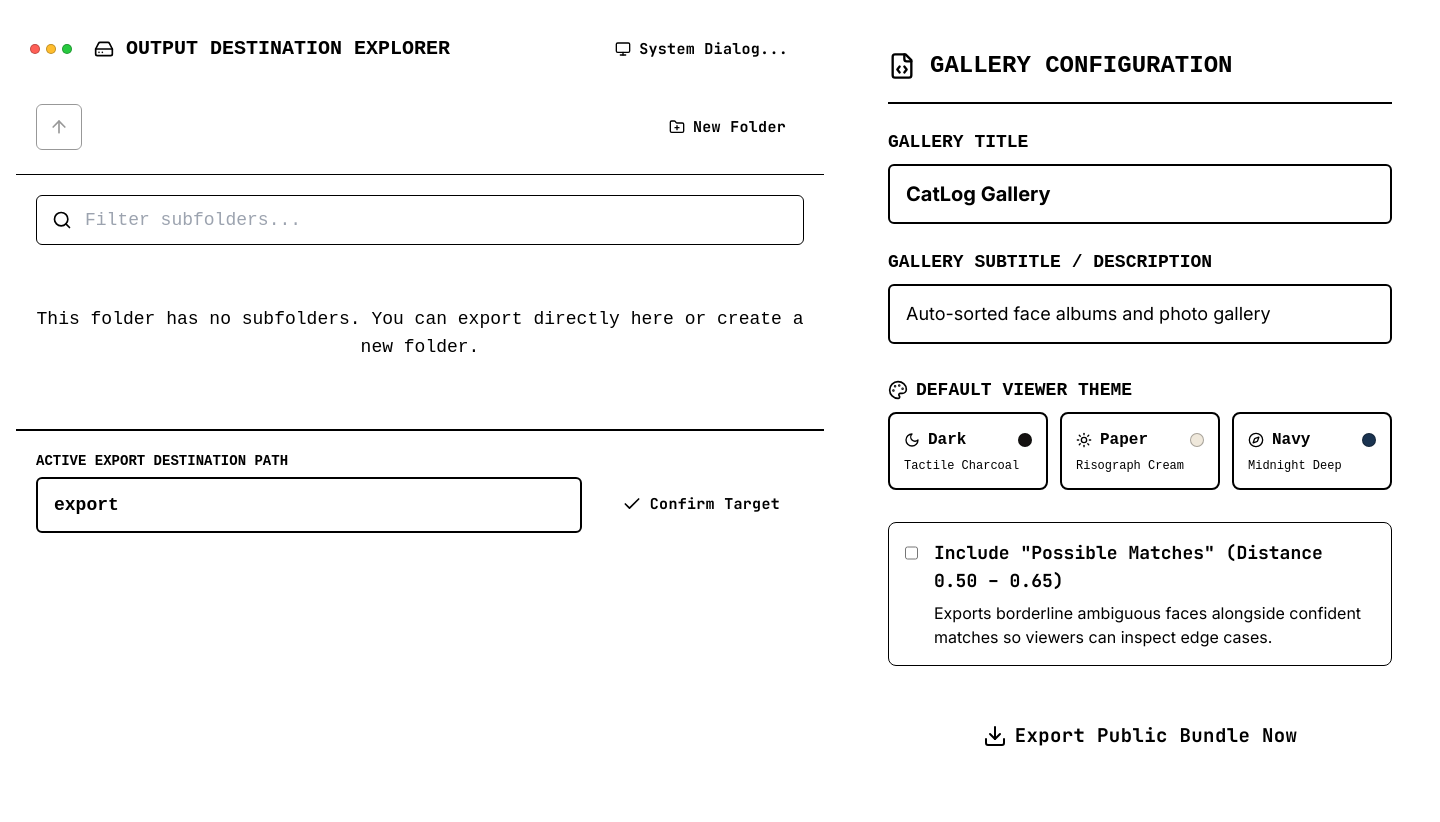
Mascots & Tutorial in Settings Integration › ExportScreen success summary renders leaving mascot with packed bundle (Pose 7)
The image size is (1440, 822).
(page scrolled)
// Trigger export
Click the button with test id "export-bundle-btn".
click(1140, 736)  # box [888,706,1392,766]
(page scrolled)
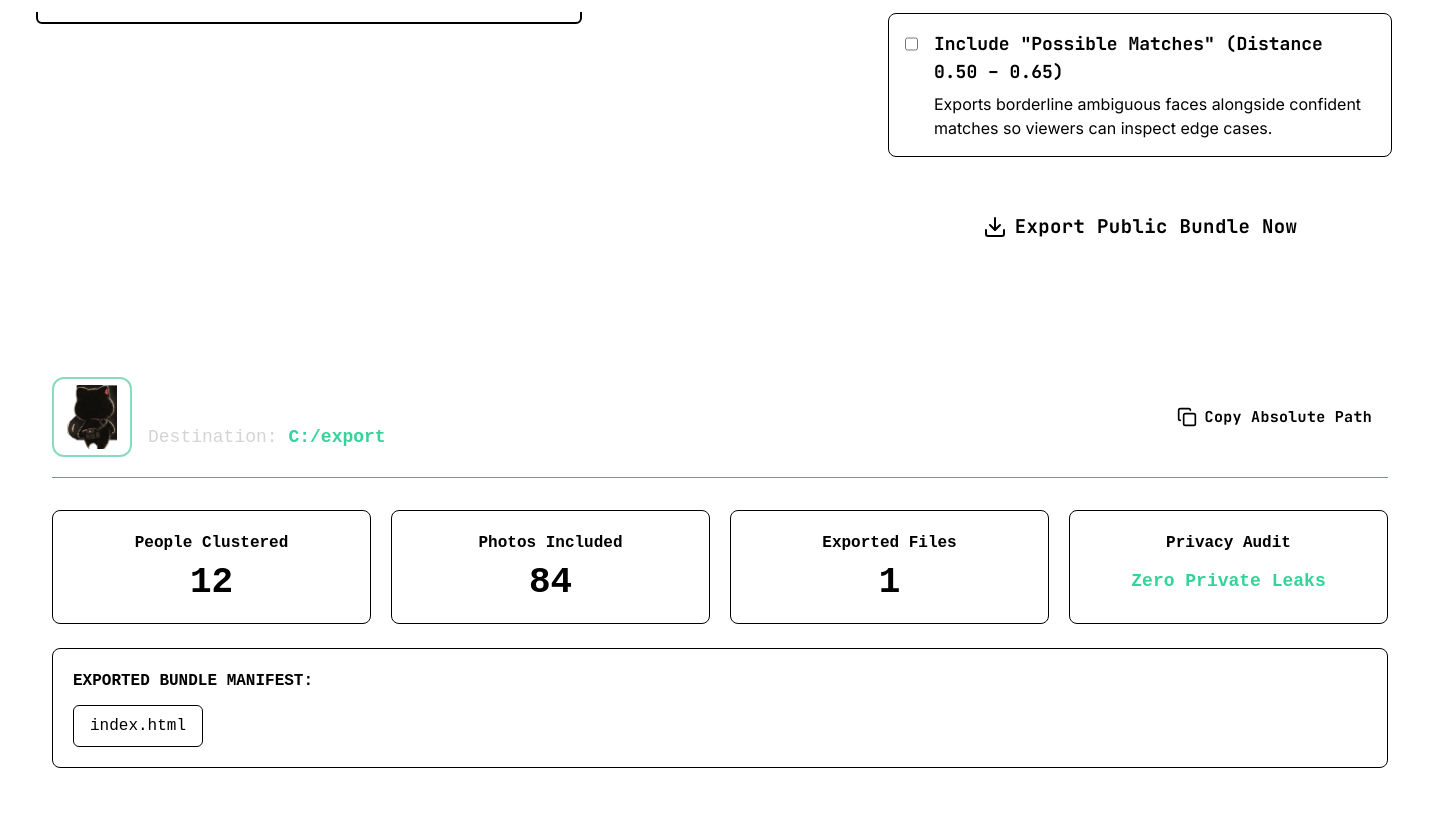
Now the element with test id "export-success-summary" is shown, box [16,341,1424,804]
Now the picture named "Leaving with Packed Bundle" is shown, box [60,385,124,449]
